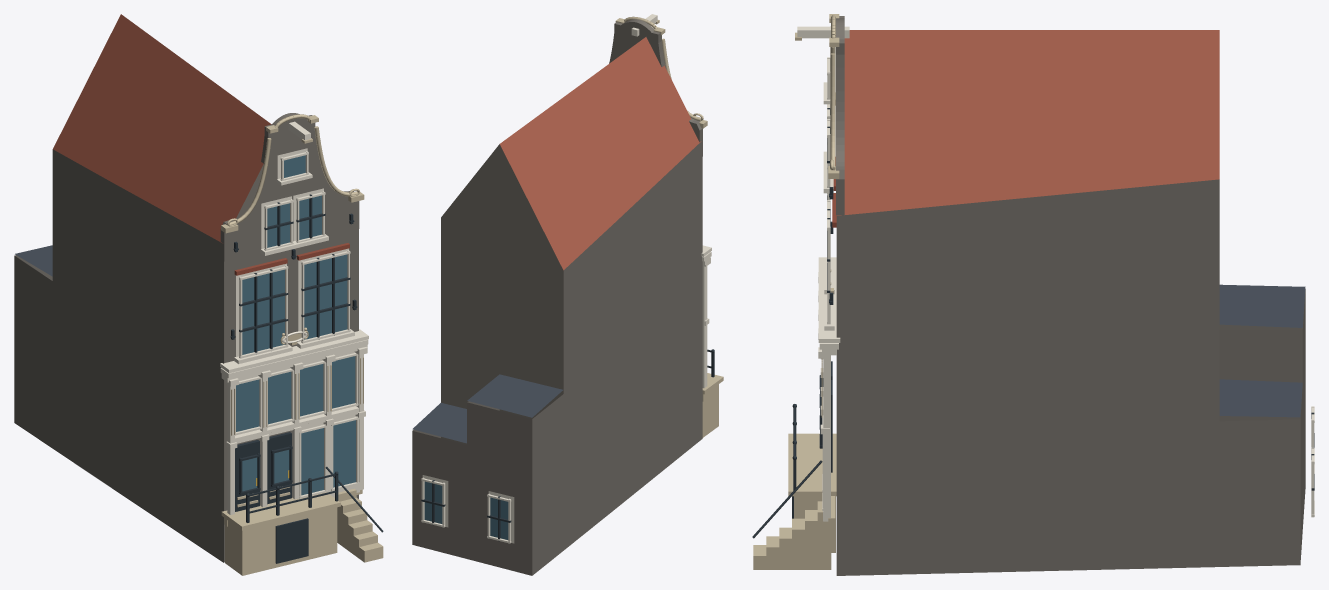
The model's file is multatuli.glb.
3 renders of one model, left to right at view 1: azimuth 30°, elevation 25°; view 2: azimuth 150°, elevation 25°; view 3: azimuth 270°, elevation 25°, orthographic. The views are drawn at different scales.
Visible parts, largest first — view 1: multatuli; view 2: multatuli; view 3: multatuli.
Part boxes in pixels (x1,y1,x2,y2): multatuli: (14,14,383,575); multatuli: (412,14,723,575); multatuli: (752,14,1314,575).
Size of the model in its own units: 5.2 by 14.18 by 13.99.
